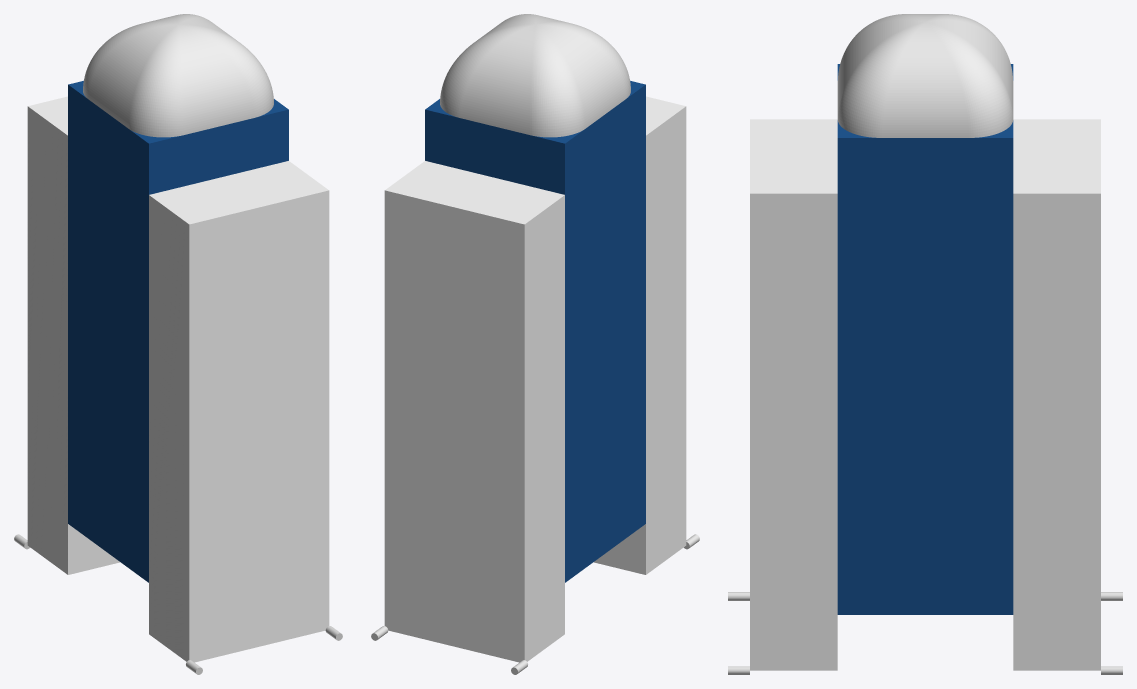
The model's file is body_completo.dae.
3 views of the same model, side by side, from view 1: azimuth 30°, elevation 25°; view 2: azimuth 150°, elevation 25°; view 3: azimuth 270°, elevation 25° (orthographic). The views are drawn at different scales.
Visible parts, largest first — view 1: Part 1 (×4); view 2: Part 1 (×4); view 3: Part 1 (×4).
Boxes of the visible parts, x1=… form: Part 1 (×4): x1=27, y1=14, x2=329, y2=662; Part 1 (×4): x1=384, y1=14, x2=686, y2=662; Part 1 (×4): x1=750, y1=14, x2=1100, y2=670.
Size of the model in its own units: 0.21 by 0.45 by 0.774.
